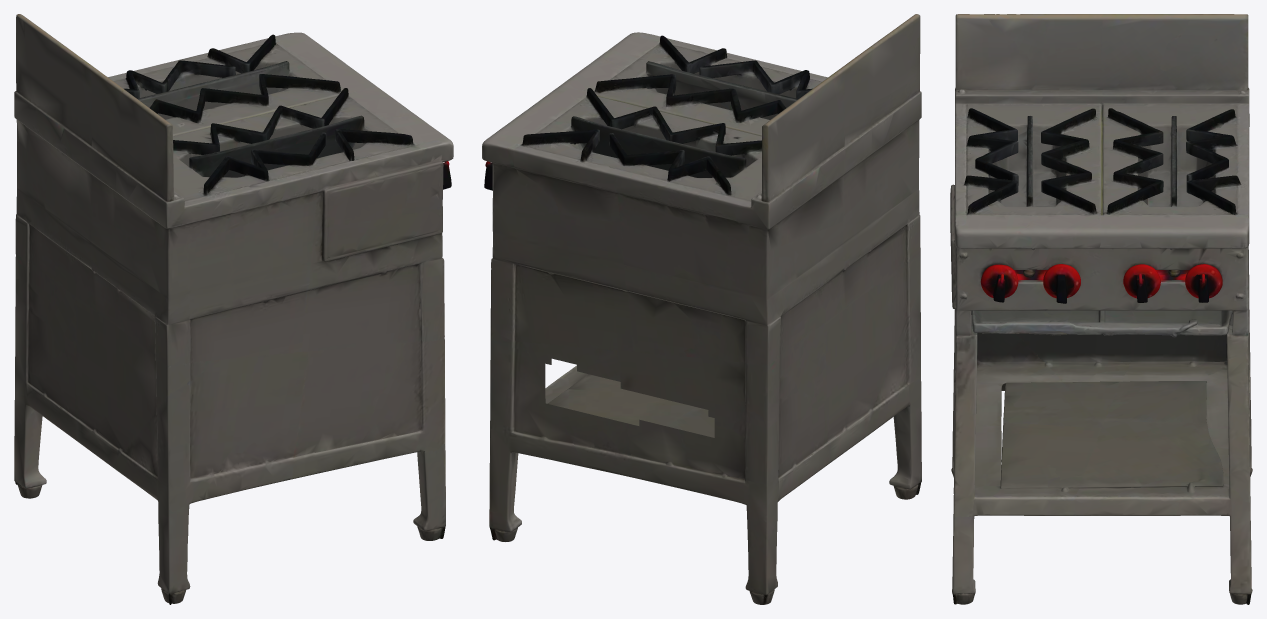
File: range3d.glb
3 views of the same model, side by side, from view 1: azimuth 30°, elevation 25°; view 2: azimuth 150°, elevation 25°; view 3: azimuth 270°, elevation 25° (orthographic). The views are drawn at different scales.
Parts seen in each view (by area): view 1: tripo_node_323fc09e-2a32-411c-a16b-4c7a217f3b54; view 2: tripo_node_323fc09e-2a32-411c-a16b-4c7a217f3b54; view 3: tripo_node_323fc09e-2a32-411c-a16b-4c7a217f3b54.
Boxes of the visible parts, x1=… form: tripo_node_323fc09e-2a32-411c-a16b-4c7a217f3b54: x1=14, y1=14, x2=453, y2=604; tripo_node_323fc09e-2a32-411c-a16b-4c7a217f3b54: x1=482, y1=14, x2=921, y2=604; tripo_node_323fc09e-2a32-411c-a16b-4c7a217f3b54: x1=950, y1=14, x2=1252, y2=604.
Bounding box in the file's own units: 0.6684 × 1 × 0.5922.
Materials: 1 (1 with a texture image).
